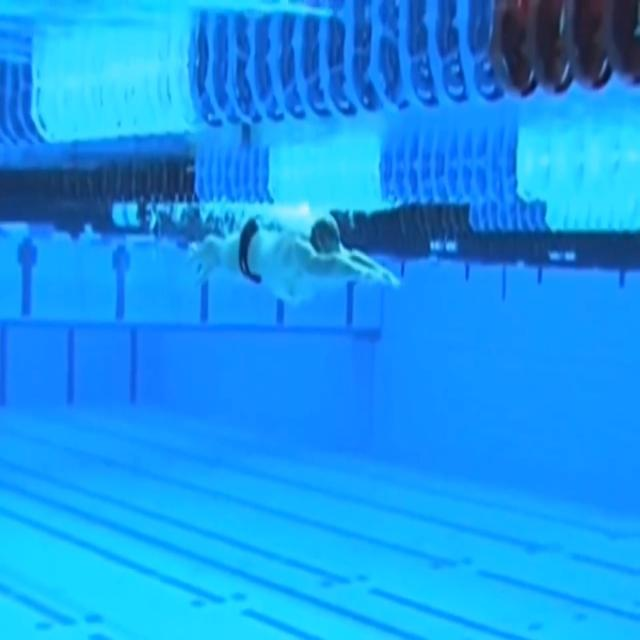Swimming: (185, 210, 400, 302)
